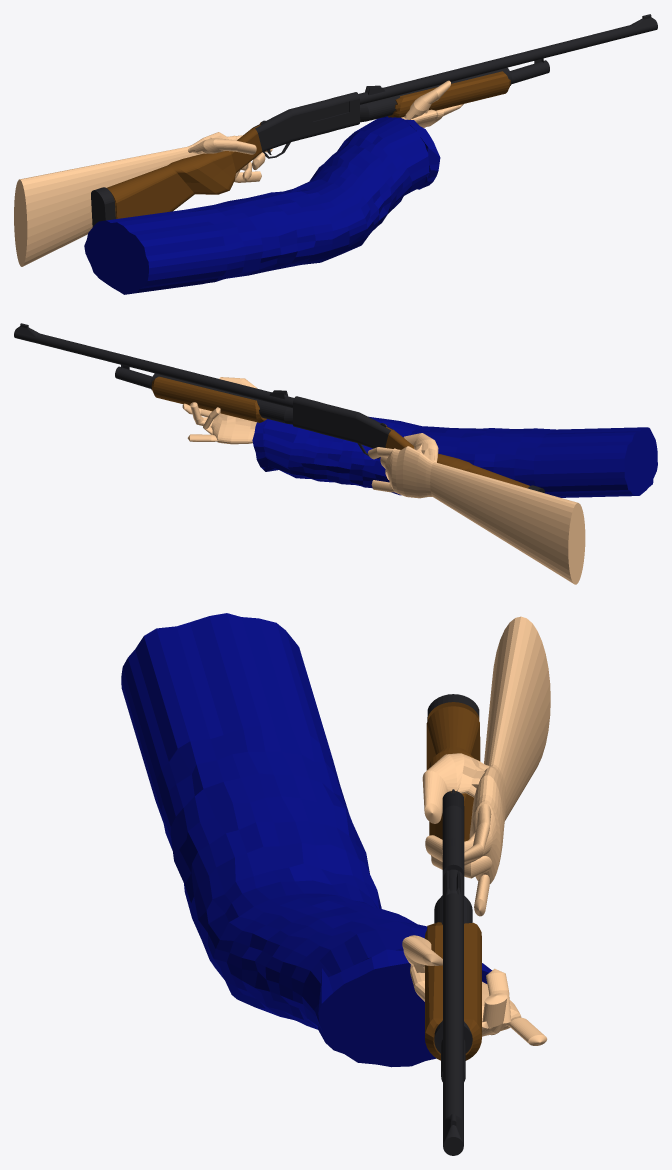
The model's file is Shotgun.fbx.
3 views of the same model, one above another, from view 1: azimuth 30°, elevation 25°; view 2: azimuth 150°, elevation 25°; view 3: azimuth 270°, elevation 25° (orthographic). The views are drawn at different scales.
Visible parts, largest first — view 1: Cylinder.001, UWU, Cylinder.002; view 2: Cylinder.001, Cylinder.002, UWU; view 3: Cylinder.001, UWU, Cylinder.002.
Part boxes in pixels (bbox=[...]): Cylinder.001: bbox=[84, 80, 463, 294]; UWU: bbox=[91, 14, 657, 226]; Cylinder.002: bbox=[14, 132, 272, 266]; Cylinder.001: bbox=[182, 377, 657, 497]; Cylinder.002: bbox=[368, 433, 585, 584]; UWU: bbox=[14, 323, 544, 493]; Cylinder.001: bbox=[121, 613, 547, 1067]; UWU: bbox=[425, 694, 481, 1155]; Cylinder.002: bbox=[422, 616, 550, 916].
Bounding box in the file's own units: 544 × 97.99 × 175.
